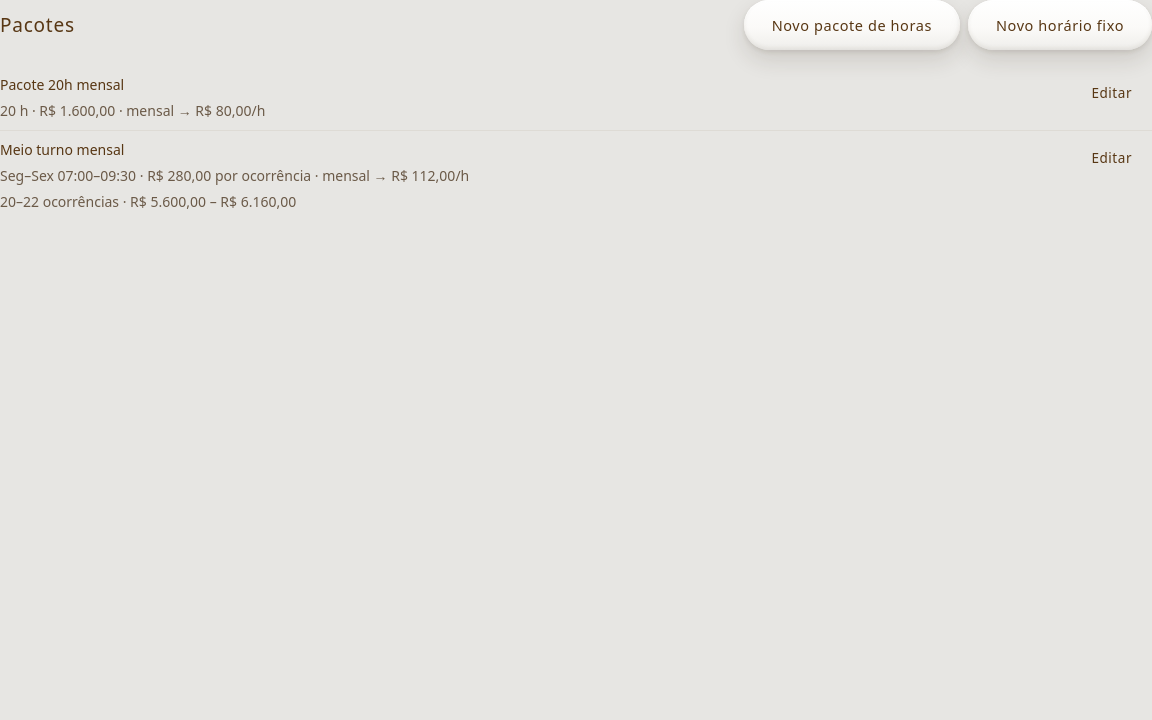
Editing a package category (REC-05) › keeps "Salvar categoria" disabled while nothing changed
What coordinates should you click on to do the following:
click the button with aria-label "Editar Meio turno mensal"
I would click on:
 (1112, 159)
Its box is [1071,139,1151,179].
(page scrolled)
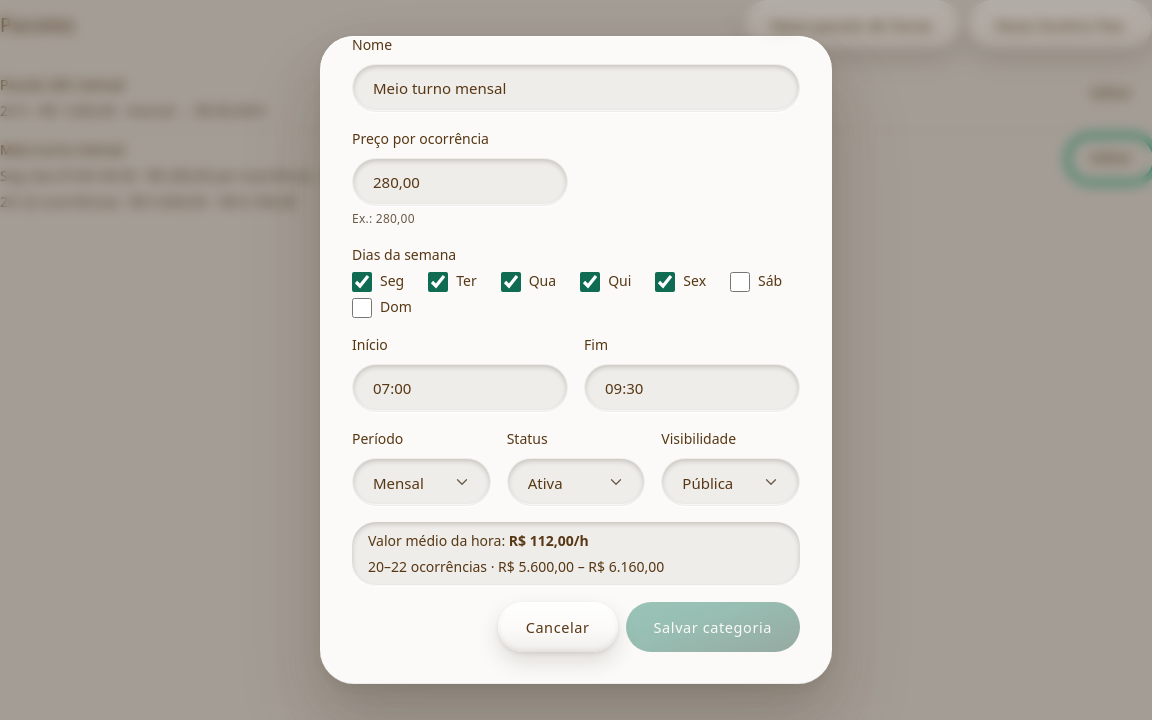
Expected: the button "Salvar categoria" is disabled, [626,602,800,652]
